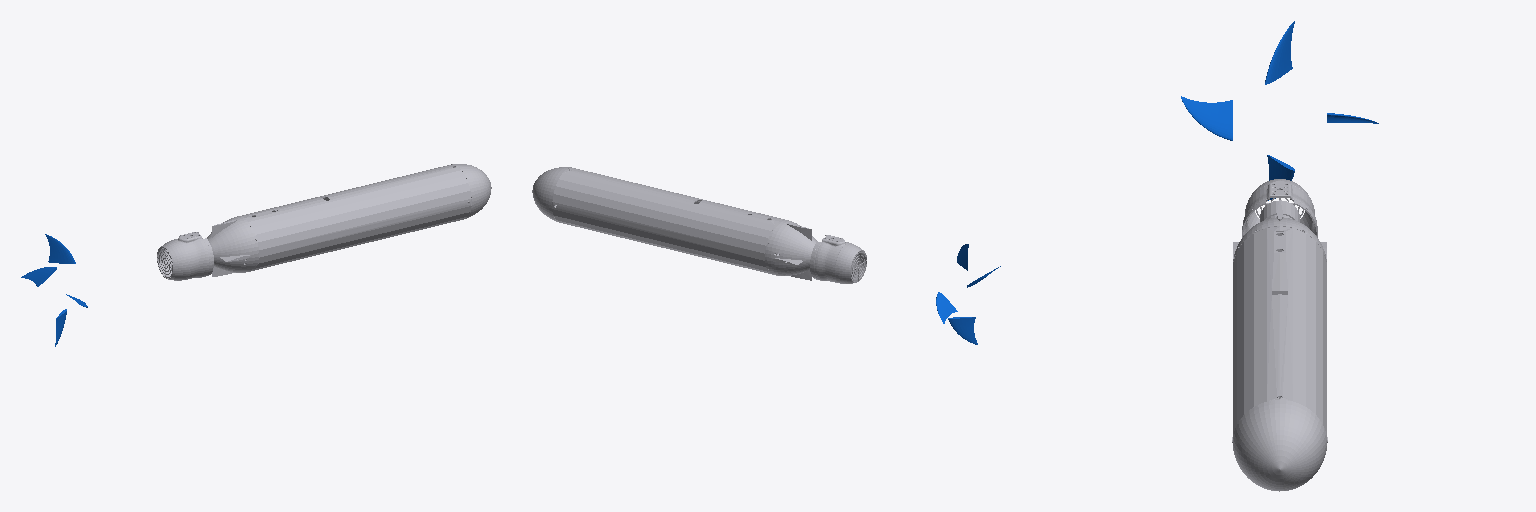
URDF robot description (sara_rocket):
<?xml version="1.0"?>
<!--
  SARA roketi - YATAY + MERKEZ referanslı
  Origin (base_link) roketin GEOMETRİK MERKEZİNDE -> roket kendi ortası etrafında döner.
  Z offset 0.4968 m: gövde ve kanatçıklar bu kadar kaydırıldı (mesh'ler değişmedi).
-->
<robot name="sara_rocket">

  <material name="govde_gri">
    <color rgba="0.75 0.75 0.78 1.0"/>
  </material>
  <material name="kanatcik_mavi">
    <color rgba="0.10 0.45 0.85 1.0"/>
  </material>

  <link name="base_link"/>

  <joint name="body_visual_joint" type="fixed">
    <parent link="base_link"/>
    <child link="rocket_body"/>
    <origin xyz="0 0 0" rpy="0 1.5708 0"/>
  </joint>

  <!-- Gövde: merkeze kaydırıldı (Z -0.4968) -->
  <link name="rocket_body">
    <visual>
      <origin xyz="0 0 -0.4968" rpy="0 0 0"/>
      <geometry>
        <mesh filename="package://sara_description/meshes/body.stl"/>
      </geometry>
      <material name="govde_gri"/>
    </visual>
    <inertial>
      <mass value="5.0"/>
      <inertia ixx="0.1" ixy="0" ixz="0" iyy="0.1" iyz="0" izz="0.02"/>
    </inertial>
  </link>

  <!-- Kanatçıklar: Z 0.178 -> -0.3188 (aynı 0.4968 kayma) -->
  <link name="fin_px">
    <visual>
      <origin xyz="0 0 -0.4968" rpy="0 0 0"/>
      <geometry><mesh filename="package://sara_description/meshes/fin_px.stl"/></geometry>
      <material name="kanatcik_mavi"/>
    </visual>
    <inertial><mass value="0.05"/><inertia ixx="1e-4" ixy="0" ixz="0" iyy="1e-4" iyz="0" izz="1e-4"/></inertial>
  </link>
  <joint name="fin_px_joint" type="revolute">
    <parent link="rocket_body"/>
    <child link="fin_px"/>
    <origin xyz="0.075 0 -0.3188" rpy="0 0 0"/>
    <axis xyz="1 0 0"/>
    <limit lower="-0.6" upper="0.6" effort="10" velocity="10"/>
  </joint>

  <link name="fin_nx">
    <visual>
      <origin xyz="0 0 -0.4968" rpy="0 0 0"/>
      <geometry><mesh filename="package://sara_description/meshes/fin_nx.stl"/></geometry>
      <material name="kanatcik_mavi"/>
    </visual>
    <inertial><mass value="0.05"/><inertia ixx="1e-4" ixy="0" ixz="0" iyy="1e-4" iyz="0" izz="1e-4"/></inertial>
  </link>
  <joint name="fin_nx_joint" type="revolute">
    <parent link="rocket_body"/>
    <child link="fin_nx"/>
    <origin xyz="-0.075 0 -0.3188" rpy="0 0 0"/>
    <axis xyz="1 0 0"/>
    <limit lower="-0.6" upper="0.6" effort="10" velocity="10"/>
  </joint>

  <link name="fin_py">
    <visual>
      <origin xyz="0 0 -0.4968" rpy="0 0 0"/>
      <geometry><mesh filename="package://sara_description/meshes/fin_py.stl"/></geometry>
      <material name="kanatcik_mavi"/>
    </visual>
    <inertial><mass value="0.05"/><inertia ixx="1e-4" ixy="0" ixz="0" iyy="1e-4" iyz="0" izz="1e-4"/></inertial>
  </link>
  <joint name="fin_py_joint" type="revolute">
    <parent link="rocket_body"/>
    <child link="fin_py"/>
    <origin xyz="0 0.075 -0.3188" rpy="0 0 0"/>
    <axis xyz="0 1 0"/>
    <limit lower="-0.6" upper="0.6" effort="10" velocity="10"/>
  </joint>

  <link name="fin_ny">
    <visual>
      <origin xyz="0 0 -0.4968" rpy="0 0 0"/>
      <geometry><mesh filename="package://sara_description/meshes/fin_ny.stl"/></geometry>
      <material name="kanatcik_mavi"/>
    </visual>
    <inertial><mass value="0.05"/><inertia ixx="1e-4" ixy="0" ixz="0" iyy="1e-4" iyz="0" izz="1e-4"/></inertial>
  </link>
  <joint name="fin_ny_joint" type="revolute">
    <parent link="rocket_body"/>
    <child link="fin_ny"/>
    <origin xyz="0 -0.075 -0.3188" rpy="0 0 0"/>
    <axis xyz="0 1 0"/>
    <limit lower="-0.6" upper="0.6" effort="10" velocity="10"/>
  </joint>

</robot>

--- What the picture shows (computed from the rendered views, not written in the file) ---
3 views of the same robot in one strip: view 1: azimuth 30°, elevation 25°; view 2: azimuth 150°, elevation 25°; view 3: azimuth 270°, elevation 25° (orthographic).
Model sara_rocket with 6 links and 5 joints (4 revolute, 1 fixed), rooted at base_link, posed every joint at zero.
Visible links, largest first — view 1: rocket_body; view 2: rocket_body; view 3: rocket_body, fin_ny, fin_nx.
Link boxes in pixels (left/top/right/bottom): rocket_body: left=157, top=164, right=491, bottom=280; rocket_body: left=532, top=167, right=866, bottom=283; rocket_body: left=1232, top=179, right=1327, bottom=491; fin_ny: left=1181, top=96, right=1232, bottom=140; fin_nx: left=1265, top=21, right=1294, bottom=84.
Bounding box of the posed robot: 1.35 × 0.3126 × 0.3126 m (x, y, z).
Meshes: 5 distinct files referenced, 5 mesh visuals loaded (5 binary STL).
